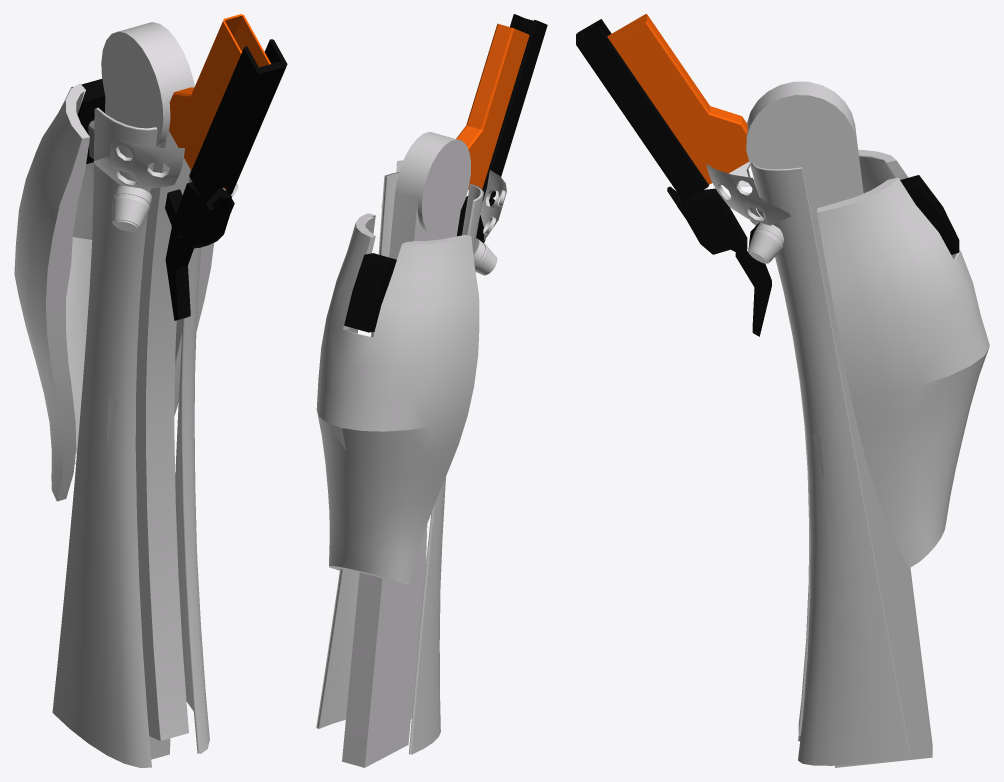
The model's file is rightShank.obj.
3 views of the same model, side by side, from view 1: azimuth 30°, elevation 25°; view 2: azimuth 150°, elevation 25°; view 3: azimuth 270°, elevation 25° (orthographic). The views are drawn at different scales.
Parts seen in each view (by area): view 1: rightShank1; view 2: rightShank1; view 3: rightShank1.
Part boxes in pixels (left/top/right/bottom): rightShank1: left=14, top=14, right=287, bottom=767; rightShank1: left=316, top=14, right=547, bottom=767; rightShank1: left=576, top=14, right=989, bottom=767.
Size of the model in its own units: 0.6255 by 2.96 by 1.51.
